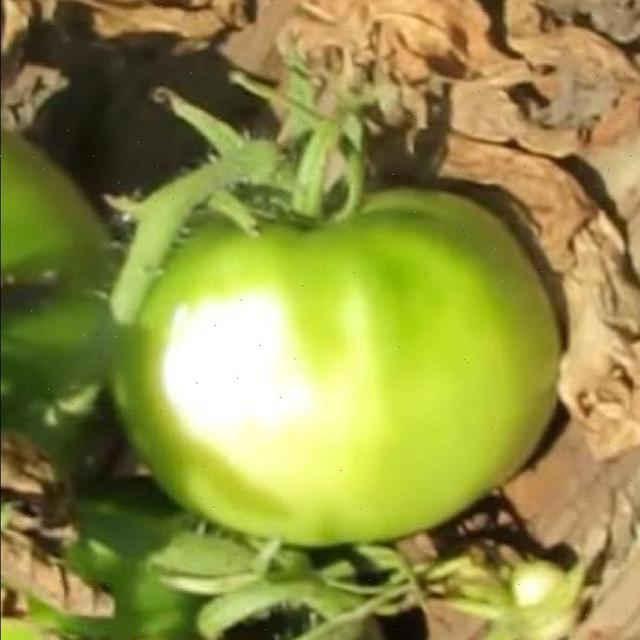Sunscald Fruit: (95, 181, 241, 319)
